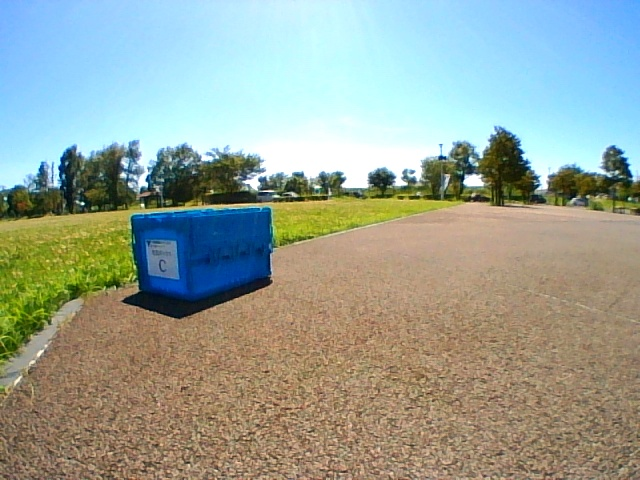blue_box: (130, 207, 272, 299)
tag_c: (149, 241, 177, 278)
